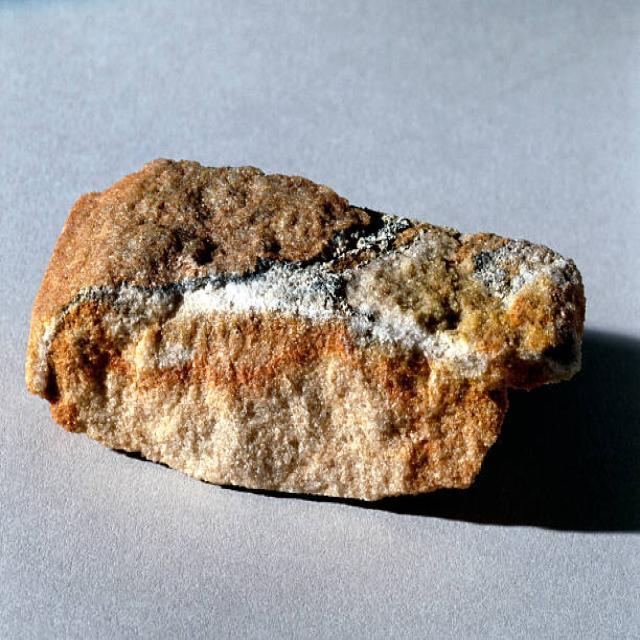Sedimentary: (26, 143, 587, 504)
